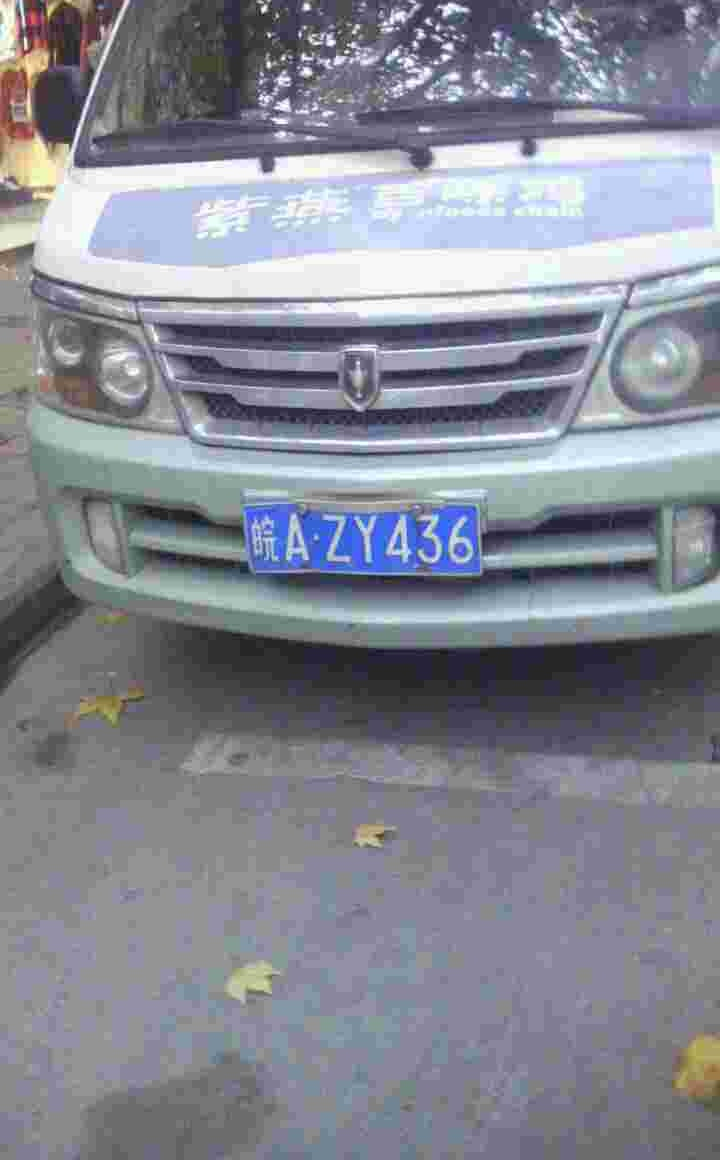car: (242, 504, 491, 586)
